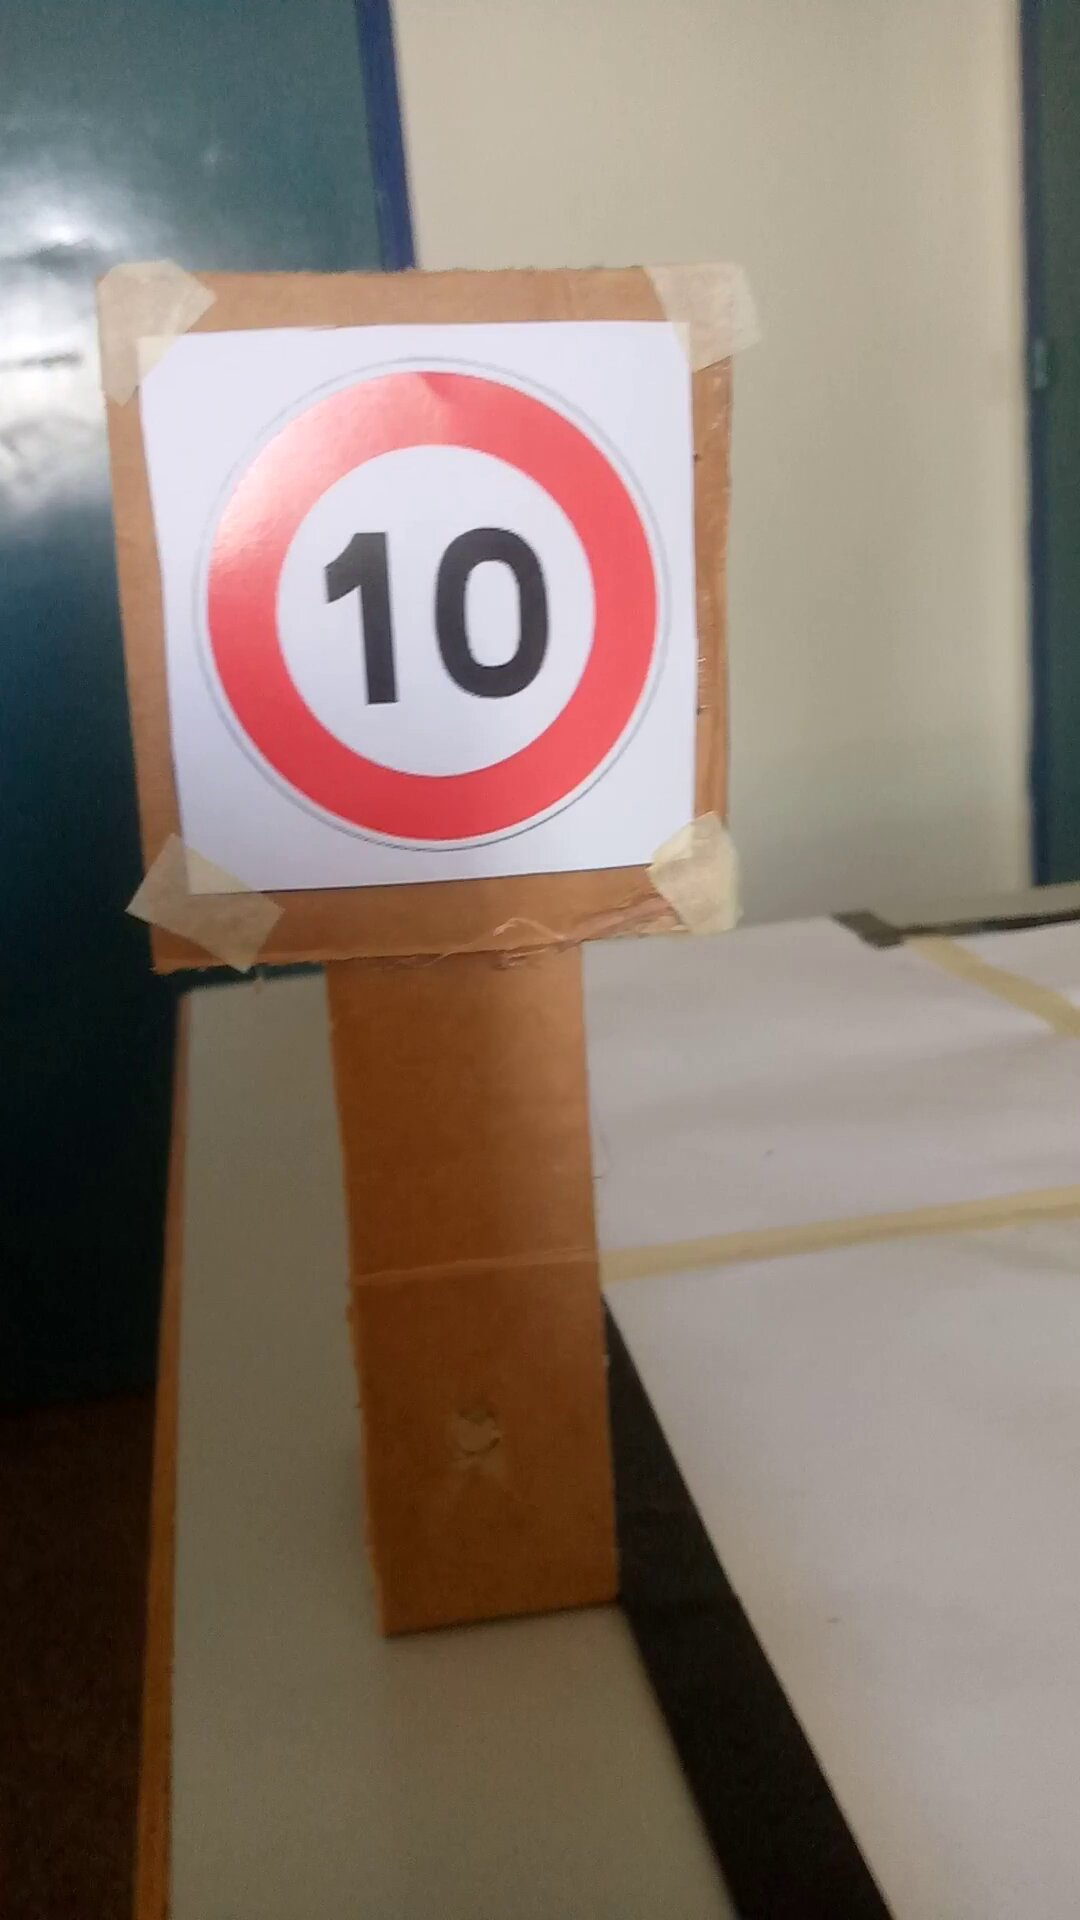panel011: (133, 314, 735, 906)
